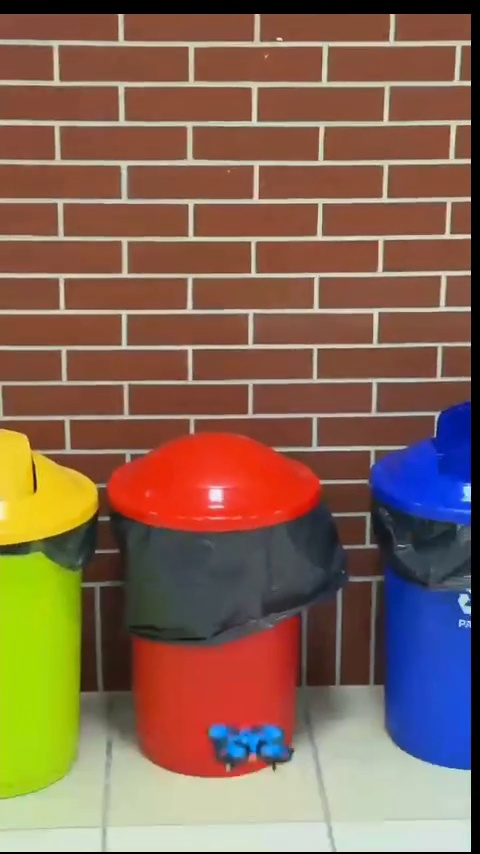drone: (208, 725, 290, 768)
